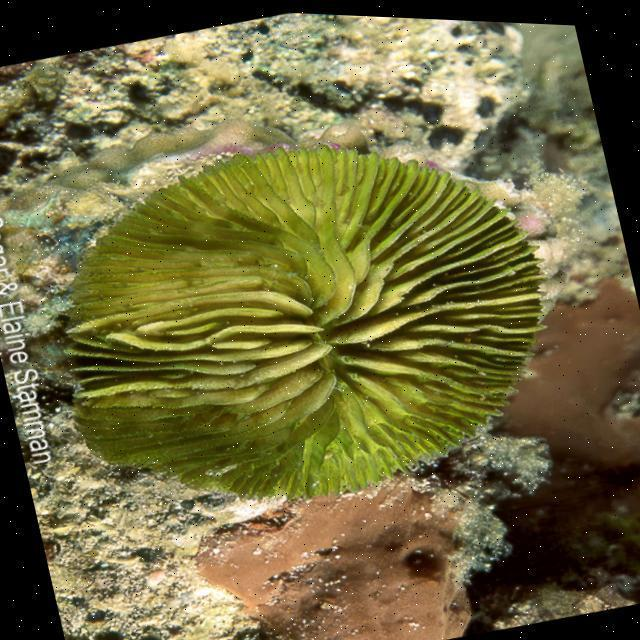Healthy Coral: (19, 70, 608, 564)
